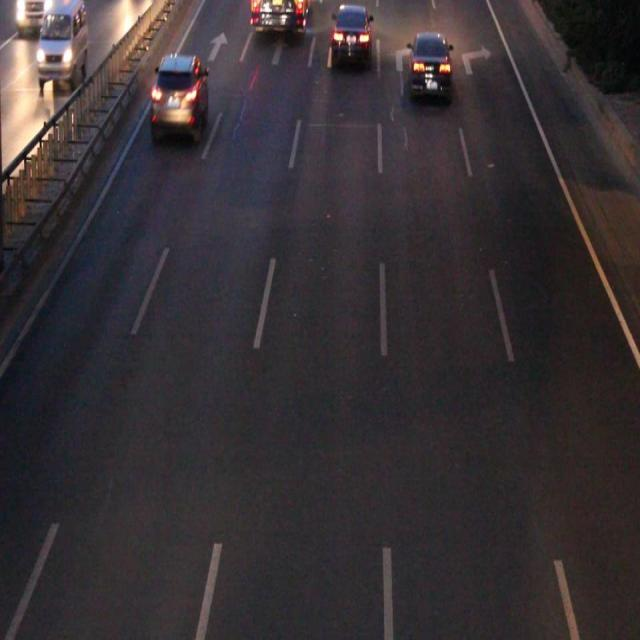car: (154, 57, 208, 131), (407, 36, 450, 97), (330, 1, 370, 59)
van: (251, 1, 309, 31)
